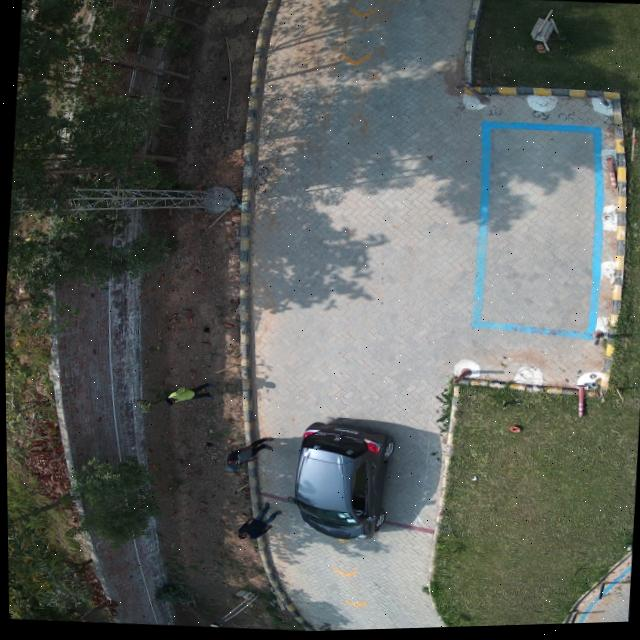car: (288, 423, 392, 540)
